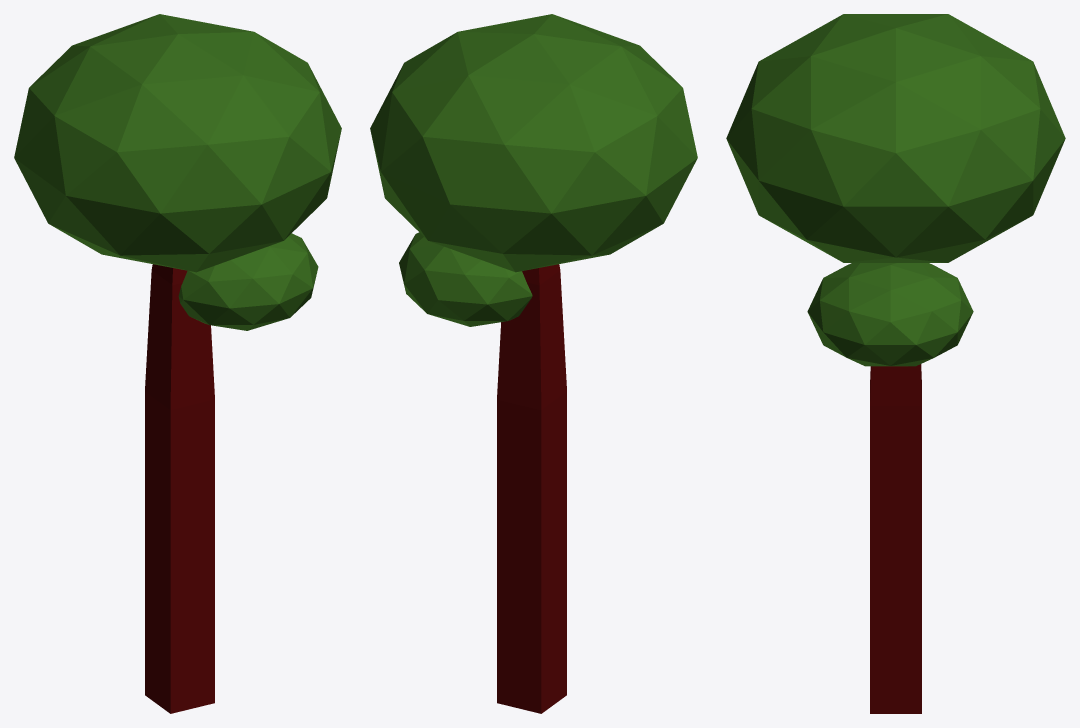
The model's file is tree_2.glb.
3 views of the same model, side by side, from view 1: azimuth 30°, elevation 25°; view 2: azimuth 150°, elevation 25°; view 3: azimuth 270°, elevation 25° (orthographic).
Parts seen in each view (by area): view 1: Cube.001; view 2: Cube.001; view 3: Cube.001.
Boxes of the visible parts, x1,y1,x2,y2 form: Cube.001: [14, 14, 341, 713]; Cube.001: [370, 14, 697, 713]; Cube.001: [726, 14, 1065, 713].
Size of the model in its own units: 9.47 by 21.83 by 9.96.
Materials: 1 (1 with a texture image).
